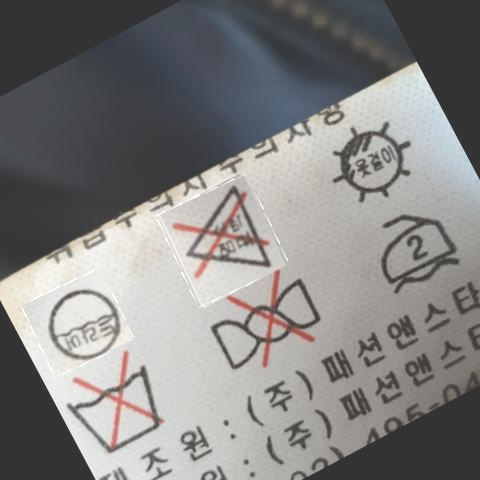DN_wash: (76, 352, 161, 453)
DN_wring: (211, 272, 324, 378)
dry_clean: (42, 275, 129, 363)
iron_medium: (375, 212, 461, 290)
line_dry_in_shade: (332, 119, 414, 206)
non_chlorine_bleach: (184, 186, 267, 283)
